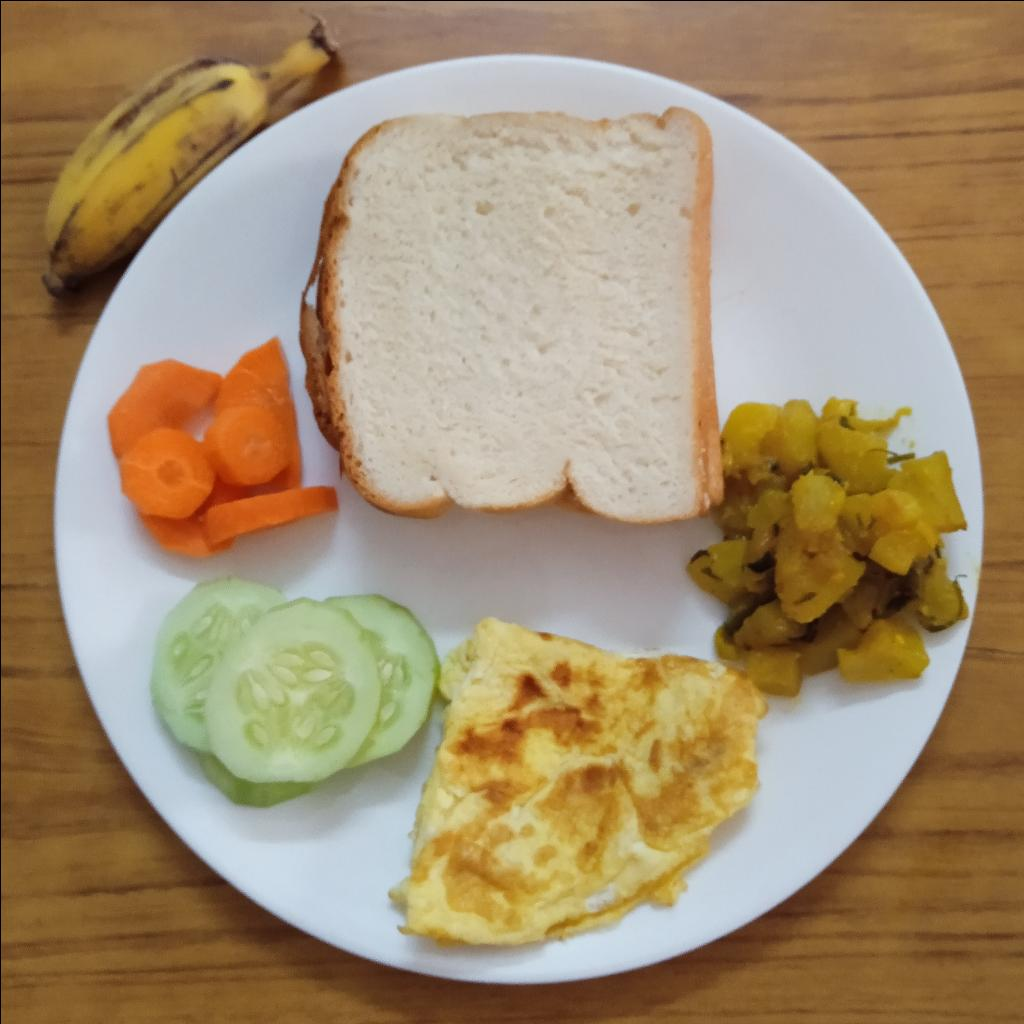banana: (40, 20, 338, 297)
bread: (297, 103, 725, 526)
carrot: (107, 335, 339, 559)
cucumber: (150, 576, 440, 808)
egg-poached: (388, 617, 770, 945)
vegetable: (681, 397, 969, 700)
